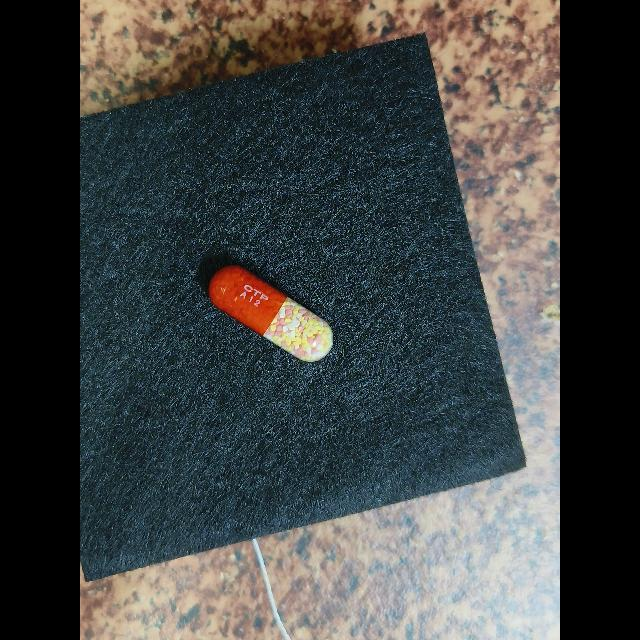Intact Capsule: (209, 265, 333, 362)
